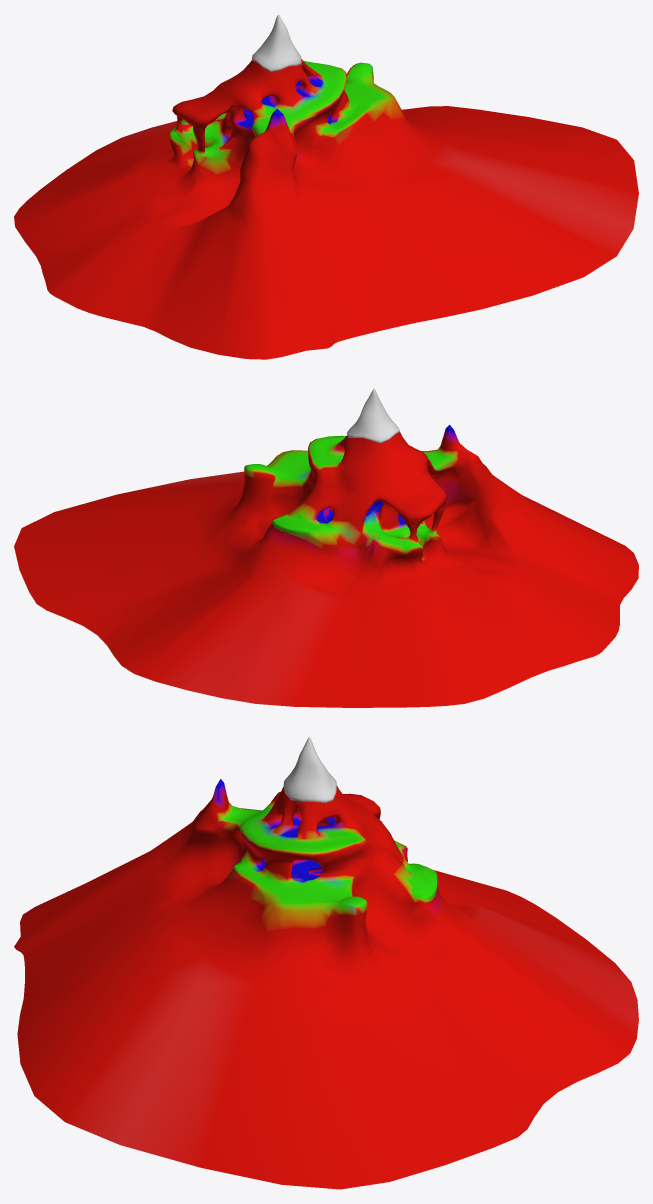
File: Summit Terrain.fbx
3 views of the same model, one above another, from view 1: azimuth 30°, elevation 25°; view 2: azimuth 150°, elevation 25°; view 3: azimuth 270°, elevation 25° (orthographic). The views are drawn at different scales.
Visible parts, largest first — view 1: Mountain (Final), Peak; view 2: Mountain (Final), Peak; view 3: Mountain (Final), Peak.
Boxes of the visible parts, bbox=[...] form: Mountain (Final): bbox=[14, 59, 638, 359]; Peak: bbox=[251, 14, 301, 72]; Mountain (Final): bbox=[14, 424, 638, 707]; Peak: bbox=[347, 388, 399, 443]; Mountain (Final): bbox=[14, 779, 638, 1189]; Peak: bbox=[283, 736, 336, 802].
Bounding box in the file's own units: 53150 × 19264 × 42781.
